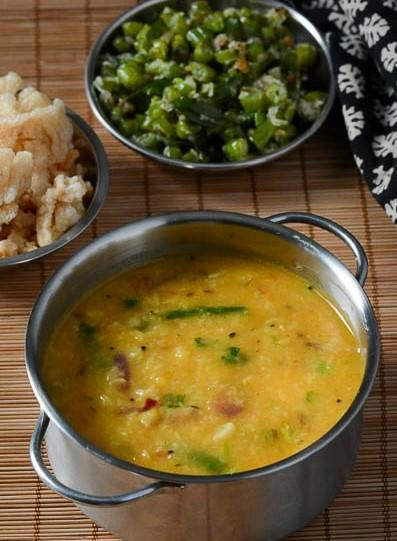Dal: (42, 251, 359, 475)
